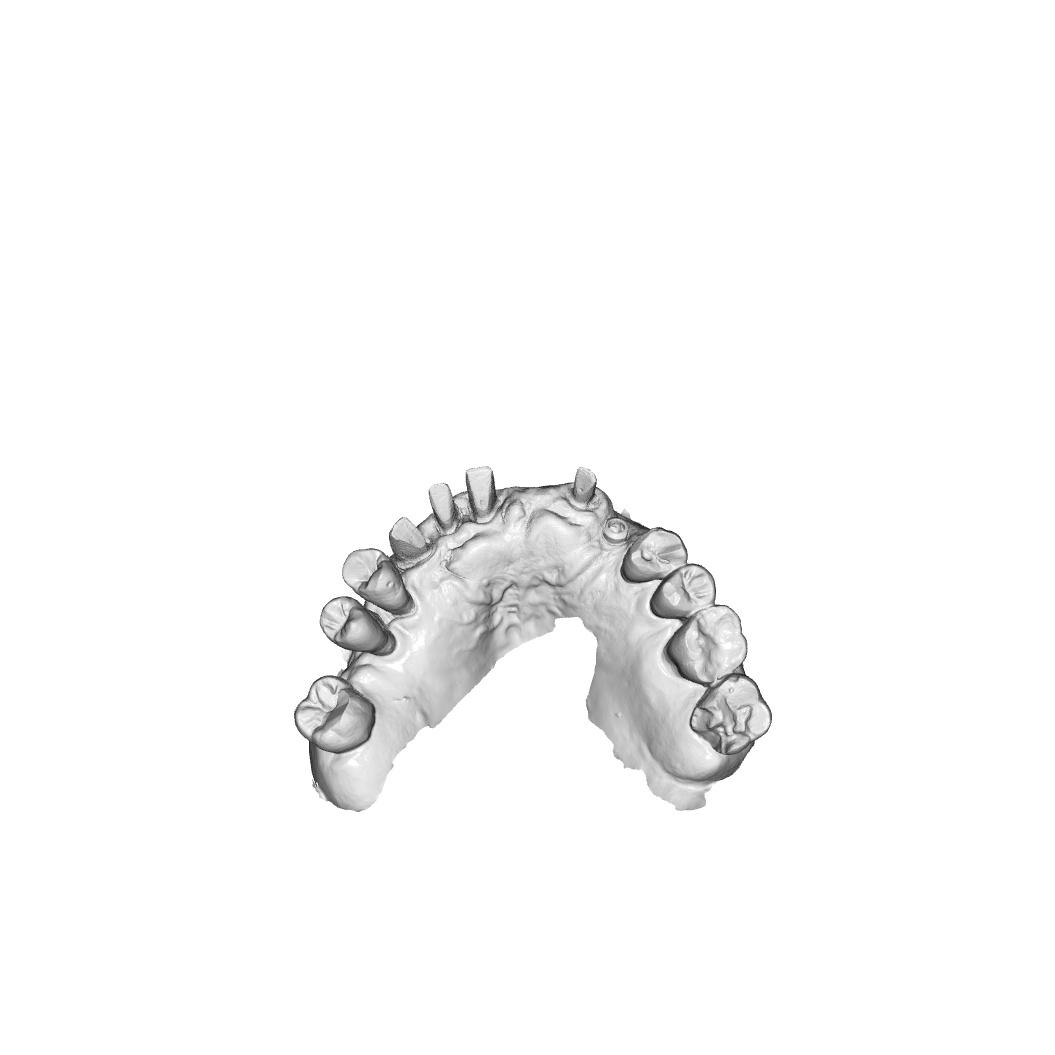crown: (388, 515, 433, 569), (464, 464, 501, 525), (427, 482, 461, 537), (565, 463, 600, 512)
implant: (601, 517, 631, 547)
molar: (689, 672, 773, 757), (663, 604, 749, 687), (292, 674, 378, 755)
premolar: (340, 547, 411, 614), (318, 595, 389, 654), (620, 526, 689, 584), (649, 562, 717, 620)
